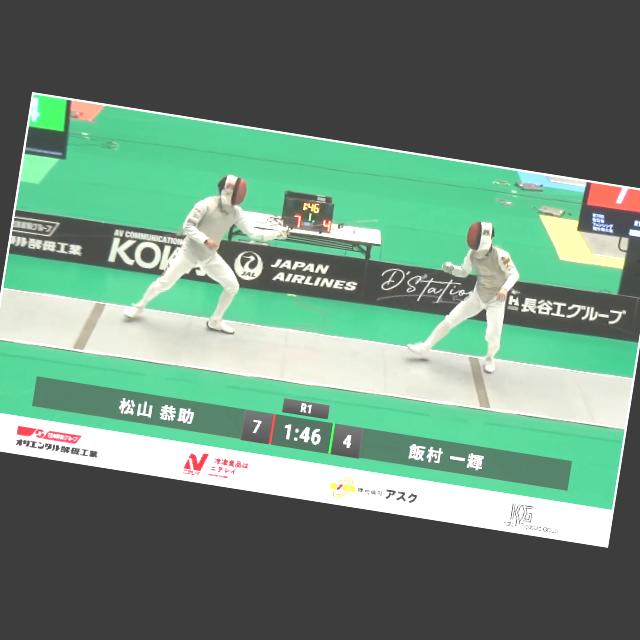blade: (280, 202, 386, 256)
